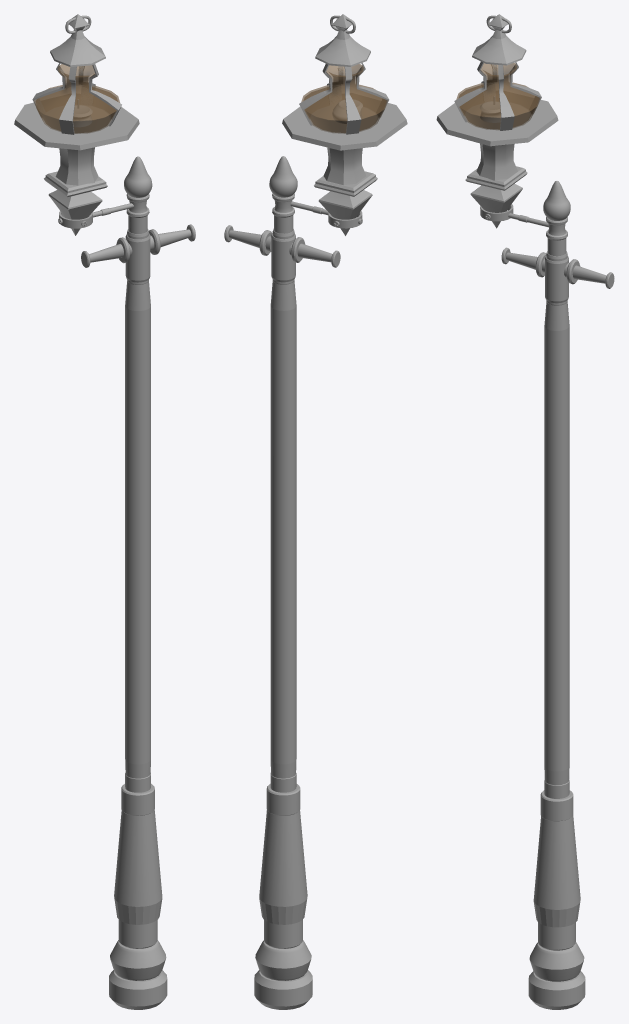
Rendered from Lampadaire1 (1).fbx.
The picture shows the model from 3 angles, left to right: view 1: azimuth 30°, elevation 25°; view 2: azimuth 150°, elevation 25°; view 3: azimuth 330°, elevation 25°; orthographic projection. The views are drawn at different scales.
Visible parts, largest first — view 1: polySurface255; view 2: polySurface255; view 3: polySurface255.
Boxes of the visible parts, x1,y1,x2,y2 form: polySurface255: (14, 14, 195, 1009); polySurface255: (224, 14, 407, 1009); polySurface255: (436, 14, 614, 1009).
Size of the model in its own units: 76.38 by 445 by 46.78.
